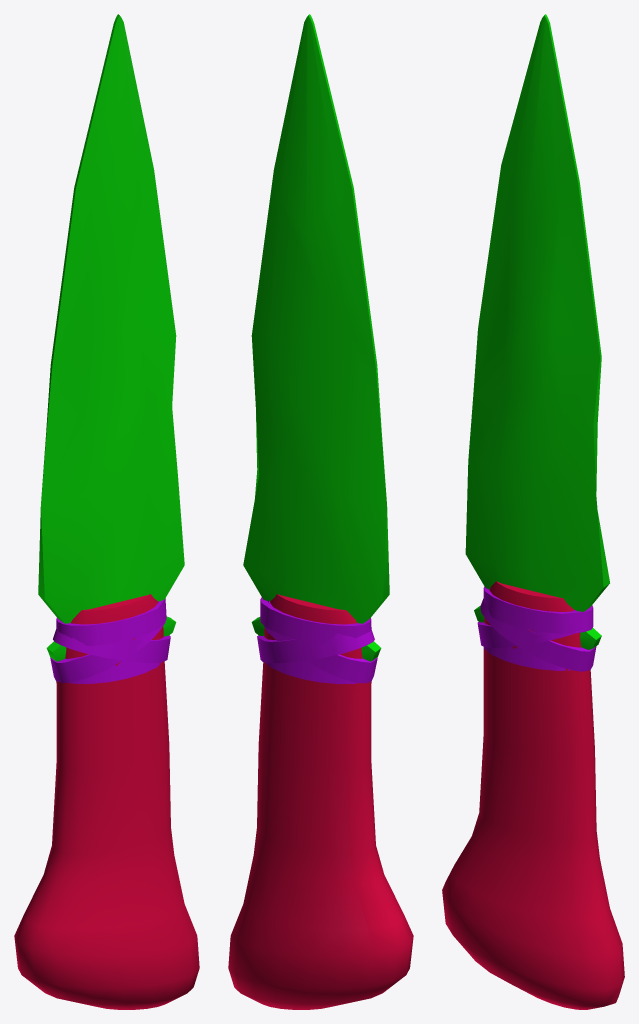
File: Faca rustica.fbx
3 renders of one model, left to right at view 1: azimuth 30°, elevation 25°; view 2: azimuth 150°, elevation 25°; view 3: azimuth 330°, elevation 25°, orthographic.
Visible parts, largest first — view 1: Cubo.001; view 2: Cubo.001; view 3: Cubo.001.
Part boxes in pixels (bbox=[...]): Cubo.001: bbox=[14, 14, 199, 1009]; Cubo.001: bbox=[228, 14, 413, 1009]; Cubo.001: bbox=[442, 14, 624, 1009].
Size of the model in its own units: 6.97 by 37.2 by 3.49.
